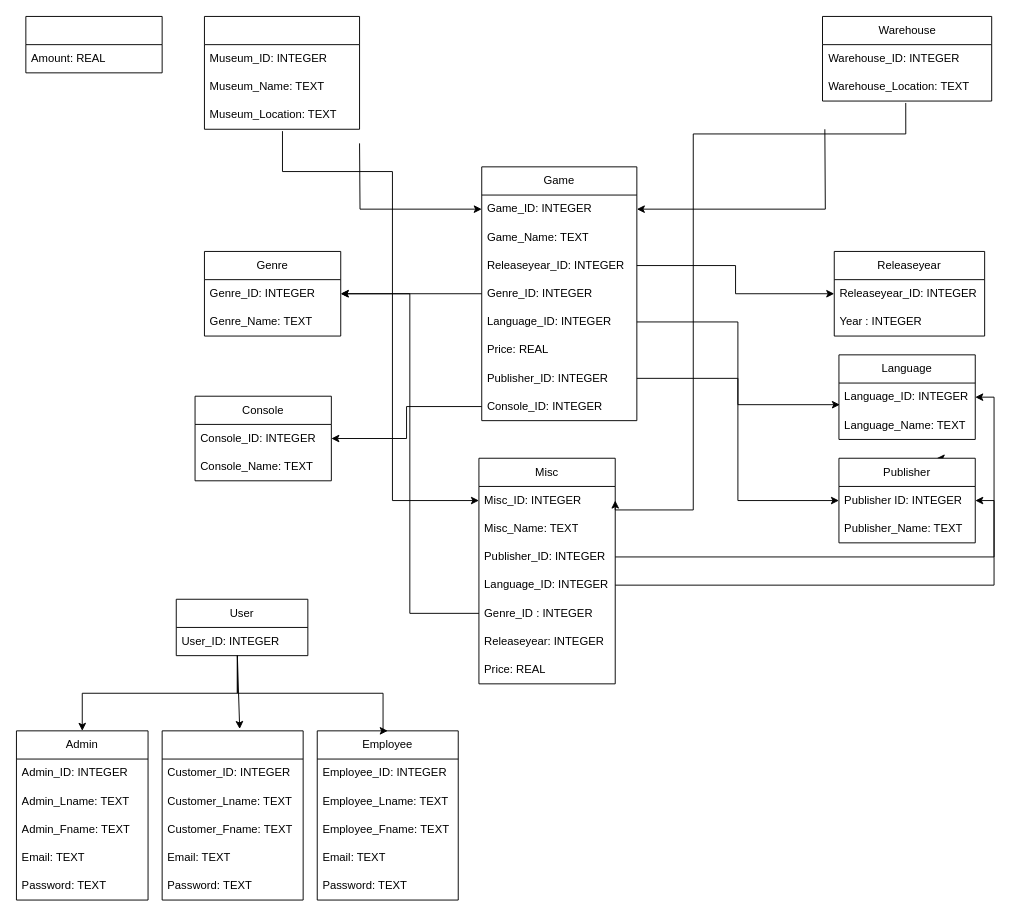
Image size: 1018x917. Some labels were removed from this diagram. The shapes that lost their labels are listed below. From the top down, each one's box as (x1, y1, x2, y2) in pixels, then its label:
(25, 16, 162, 73): Money
(204, 16, 360, 129): Musea
(161, 730, 303, 900): Customers
